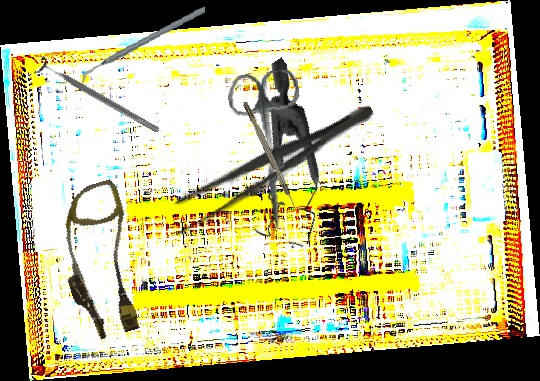Cannula: (43, 177, 158, 345)
Chopper: (76, 5, 211, 85)
Dressing Forceps: (161, 92, 381, 242)
Fixation Ring: (33, 55, 163, 140)
Hook Surgical: (242, 100, 300, 215)
Iris Scissors: (225, 68, 316, 233)
Speculum: (182, 57, 377, 264)
